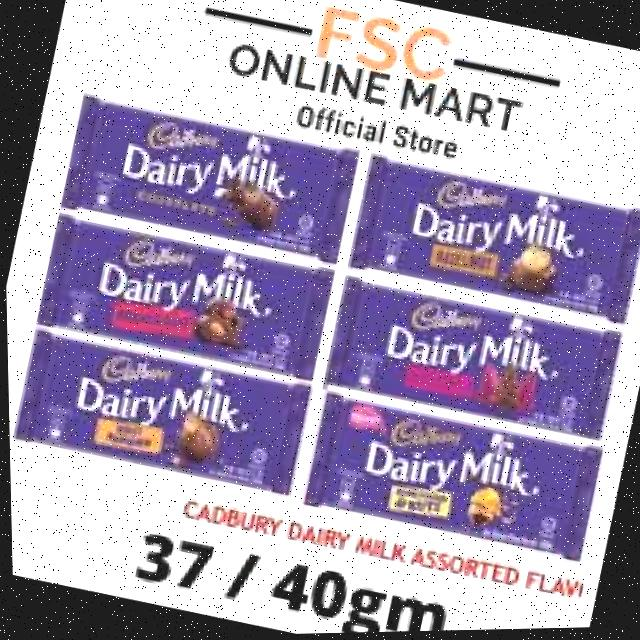cadbury: (59, 89, 363, 271), (33, 207, 337, 388), (348, 148, 640, 333), (9, 325, 312, 503), (300, 392, 603, 569), (323, 276, 621, 449)
